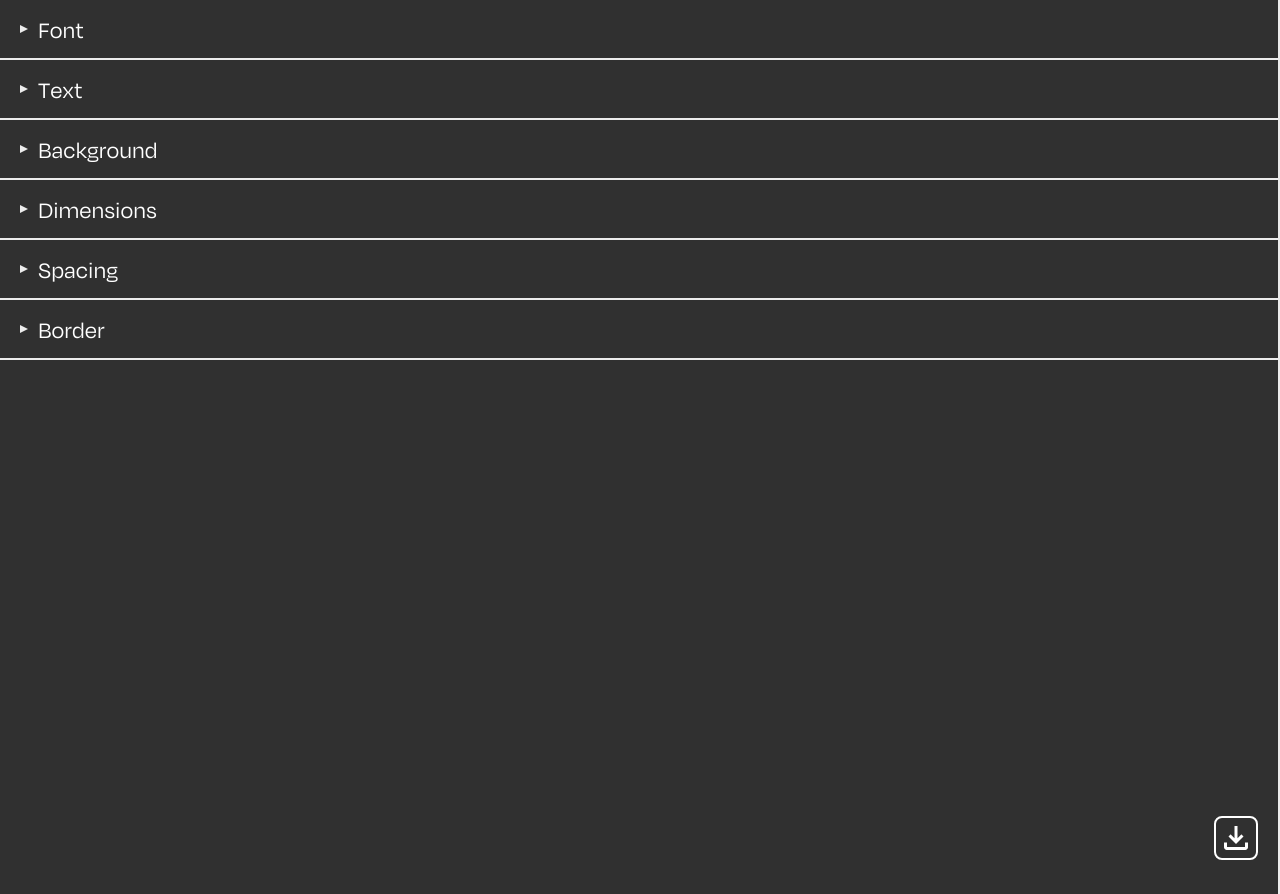
Test case: Editor 컴포넌트 › Spacing 카테고리 버튼 클릭 시 Spacing 에디터 영역을 표시한다
Click the button "Spacing".
click(78, 269)  # box [0,240,1278,300]
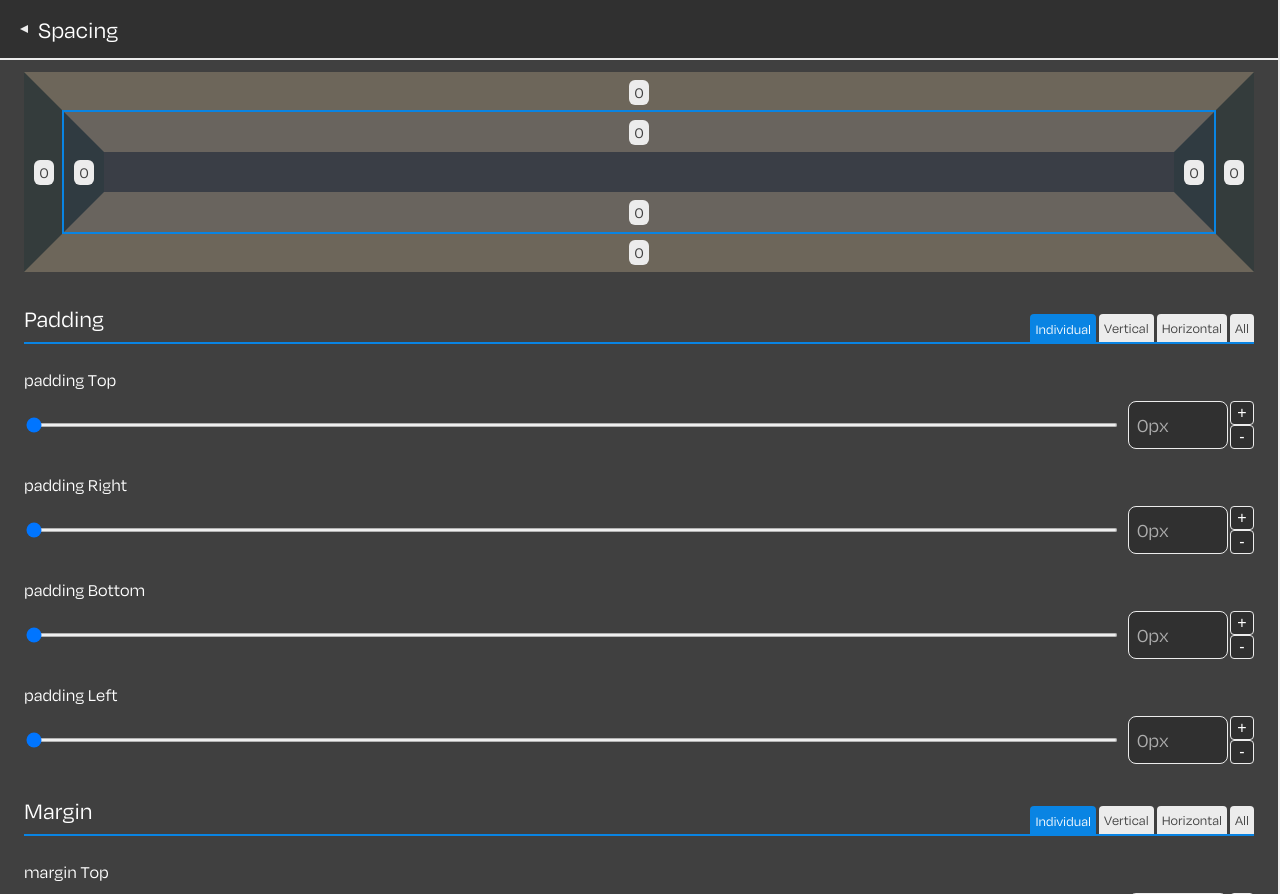
Check: the heading "Padding" is shown, box [24,302,104,334]
Check: the heading "Margin" is shown, box [24,794,92,826]
